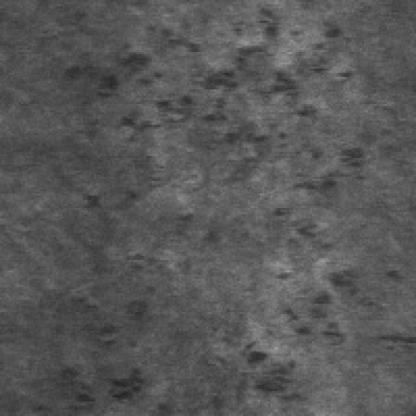rolled-in_scale: (60, 4, 364, 179), (210, 174, 352, 408), (60, 291, 154, 406)
